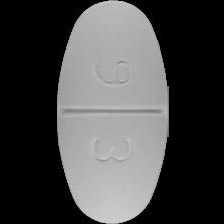10544-058: (0, 0, 224, 224)
